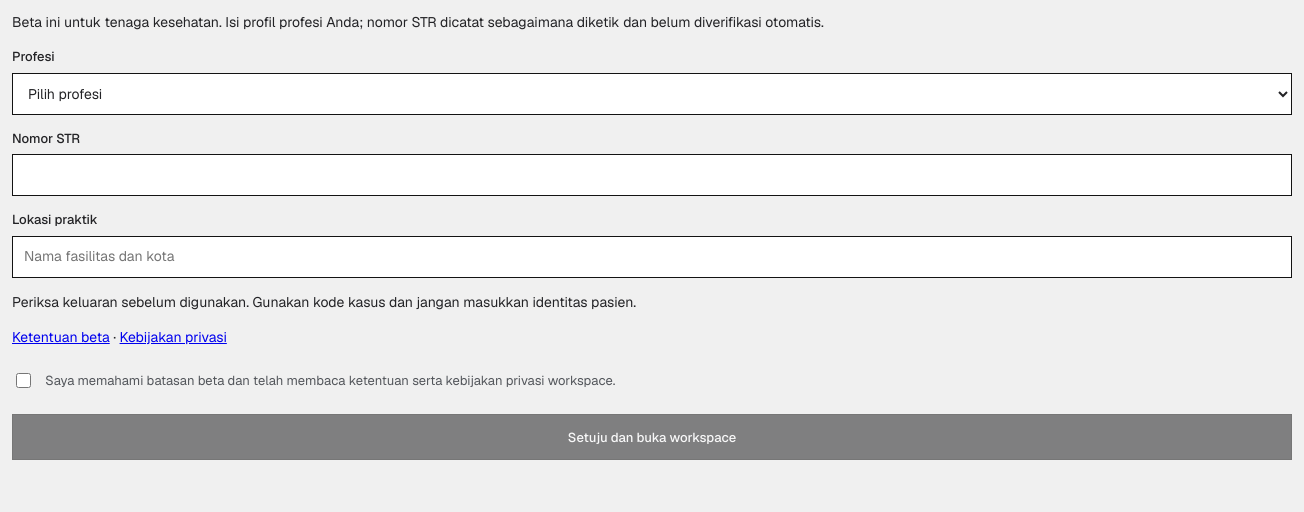
Test: beta acknowledgement › shows pending and generic failure states, keeping the acknowledgement available for retry
Later steps or results of the test are not shown.
Select "Dokter" in the dropdown labelled "Profesi" at (652, 94), box [12,72,1292,114]
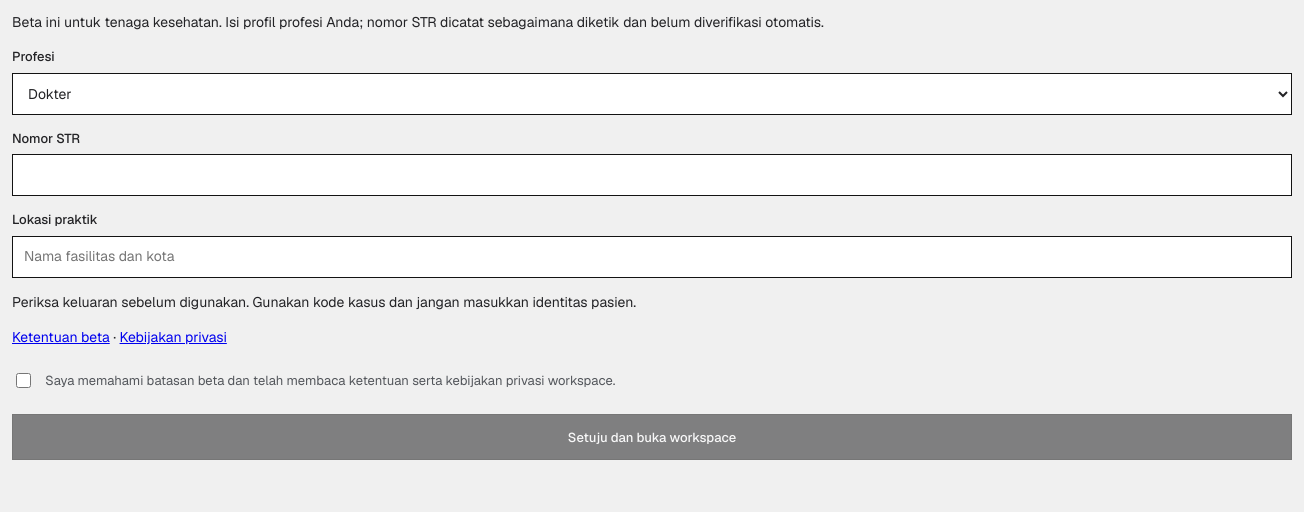
Type "STR-0001-TEST" into the field labelled "Nomor STR" at (652, 175), box [12,154,1292,196]
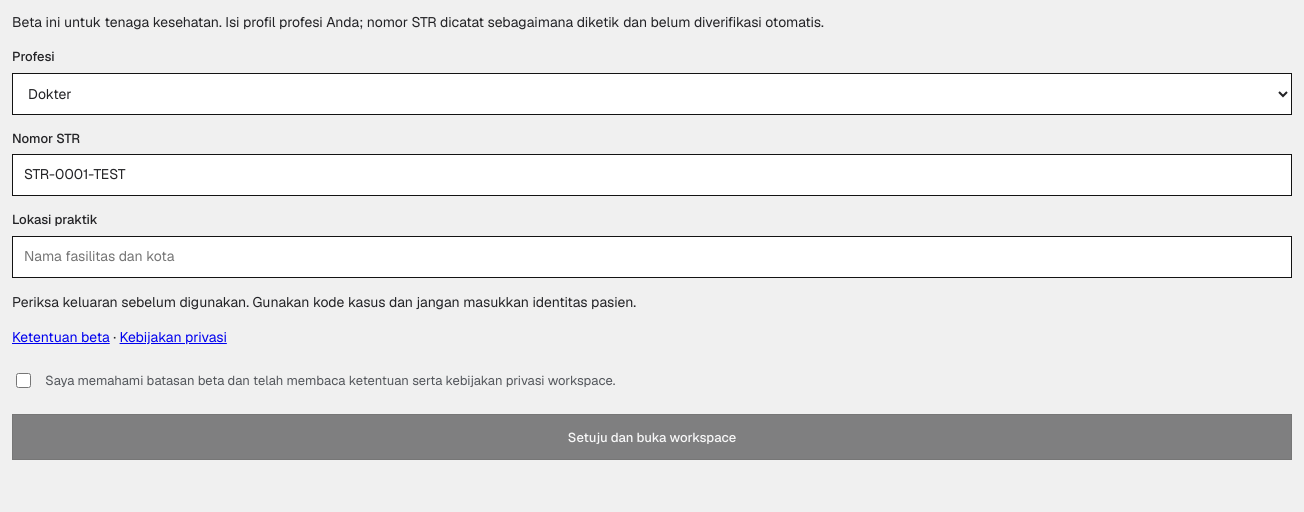
Type "Puskesmas Contoh" into the field labelled "Lokasi praktik" at (652, 256), box [12,236,1292,278]
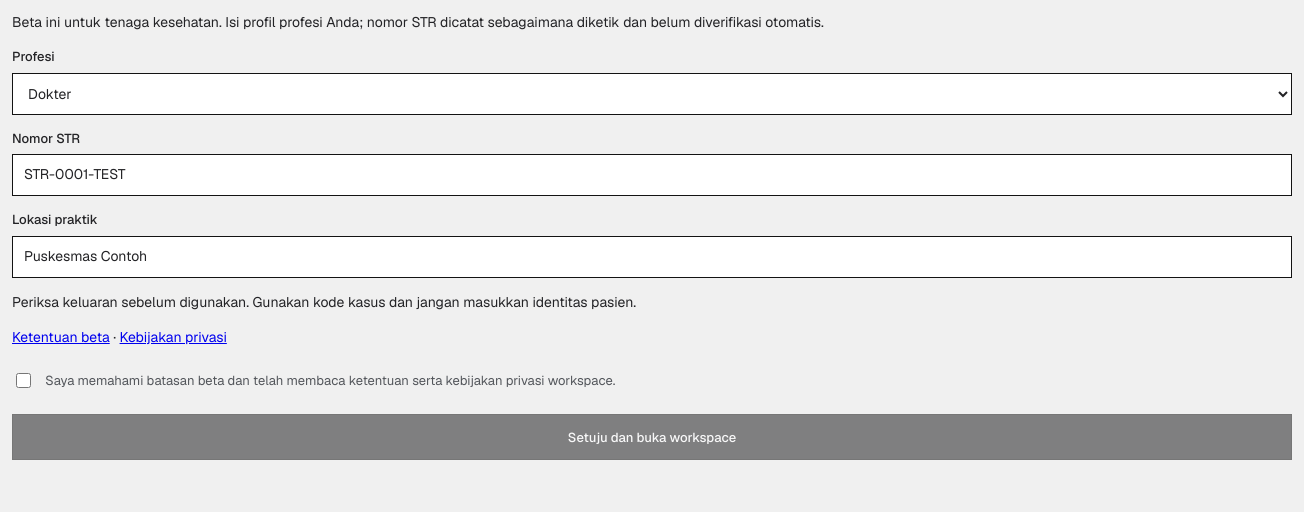
Click the checkbox at (24, 381), box [16,373,31,388]
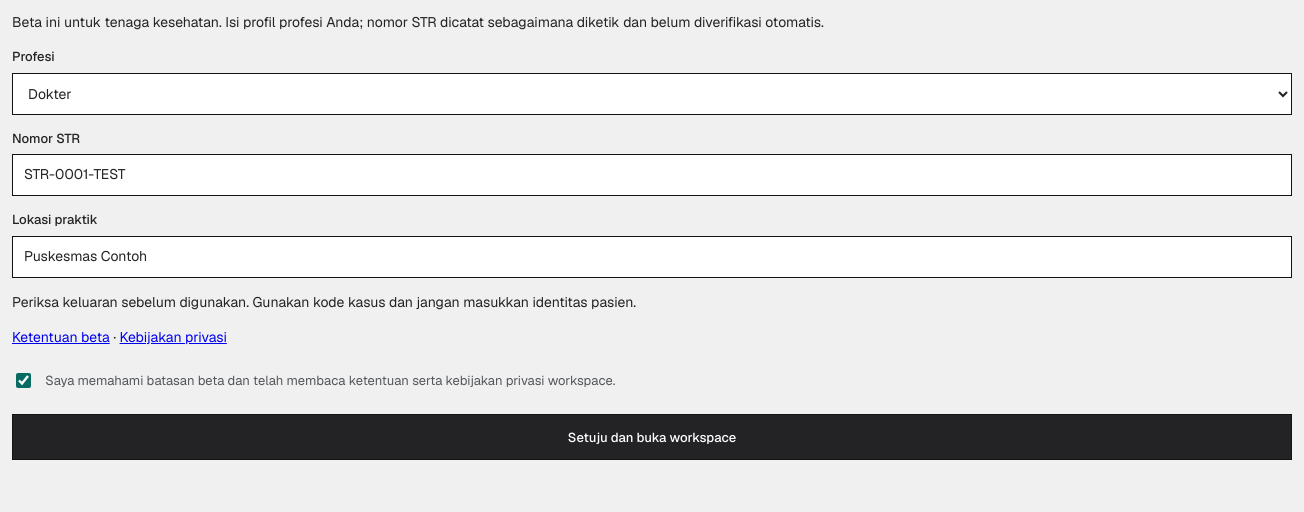
Click the button "Setuju dan buka workspace" at (652, 437), box [12,414,1292,460]
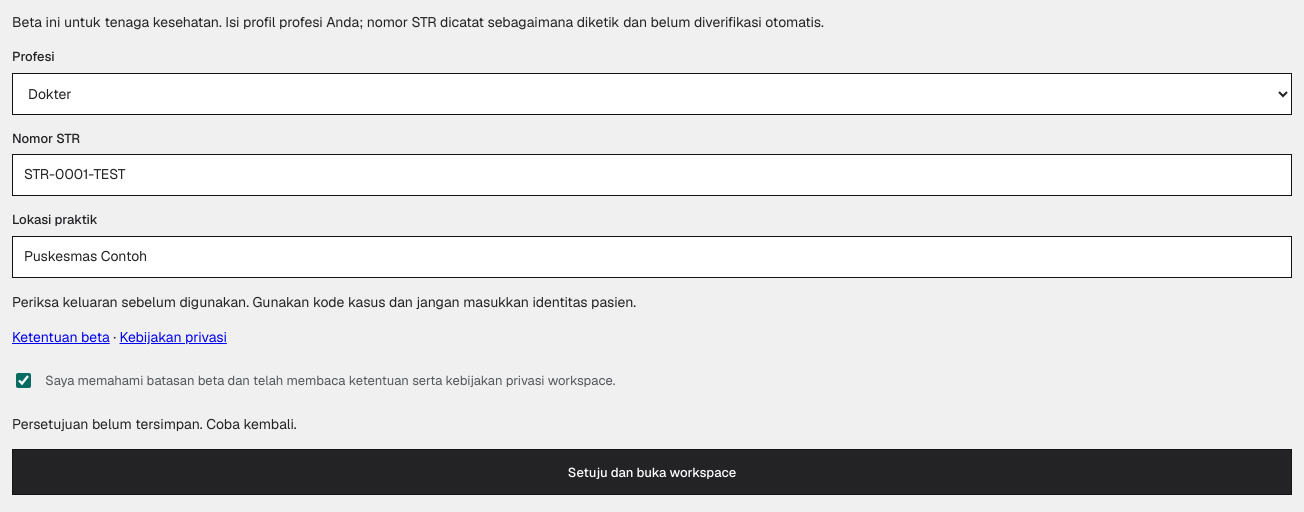
Now the checkbox is checked, box [16,373,31,388]
Now the button "Setuju dan buka workspace" is enabled, box [12,449,1292,495]
Now the message shows "Coba kembali", box [12,415,297,433]
